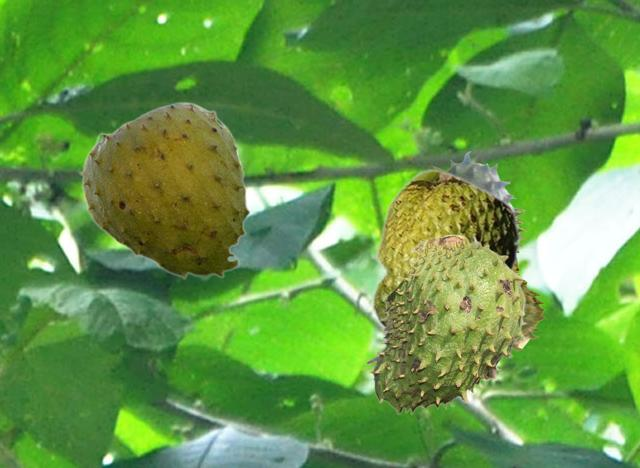guyabano: (78, 101, 250, 281), (365, 234, 526, 414), (369, 168, 520, 327), (429, 151, 545, 351)
